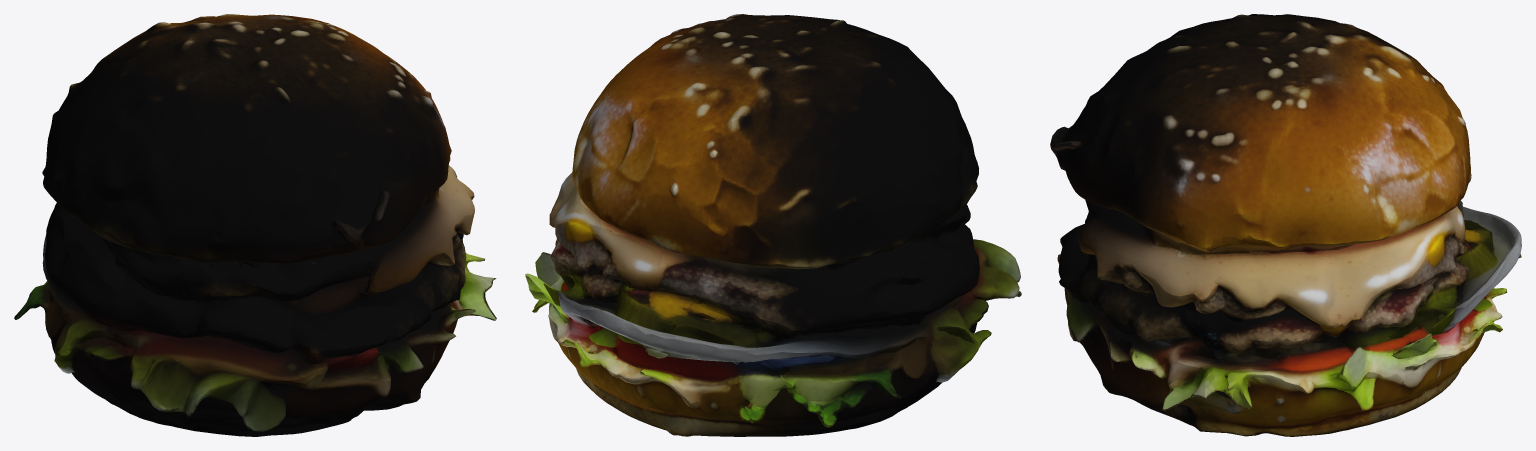
File: item-3d-8e8d3f38-8e91-4921-a550-401da35b37d9.glb
3 renders of one model, left to right at view 1: azimuth 30°, elevation 25°; view 2: azimuth 150°, elevation 25°; view 3: azimuth 270°, elevation 25°, orthographic. The views are drawn at different scales.
Parts seen in each view (by area): view 1: world; view 2: world; view 3: world.
Part boxes in pixels (bbox=[...]): world: bbox=[14, 14, 496, 436]; world: bbox=[525, 14, 1021, 436]; world: bbox=[1050, 14, 1521, 436].
Size of the model in its own units: 0.9797 by 0.7337 by 0.9924.
Materials: 1 (1 with a texture image).
